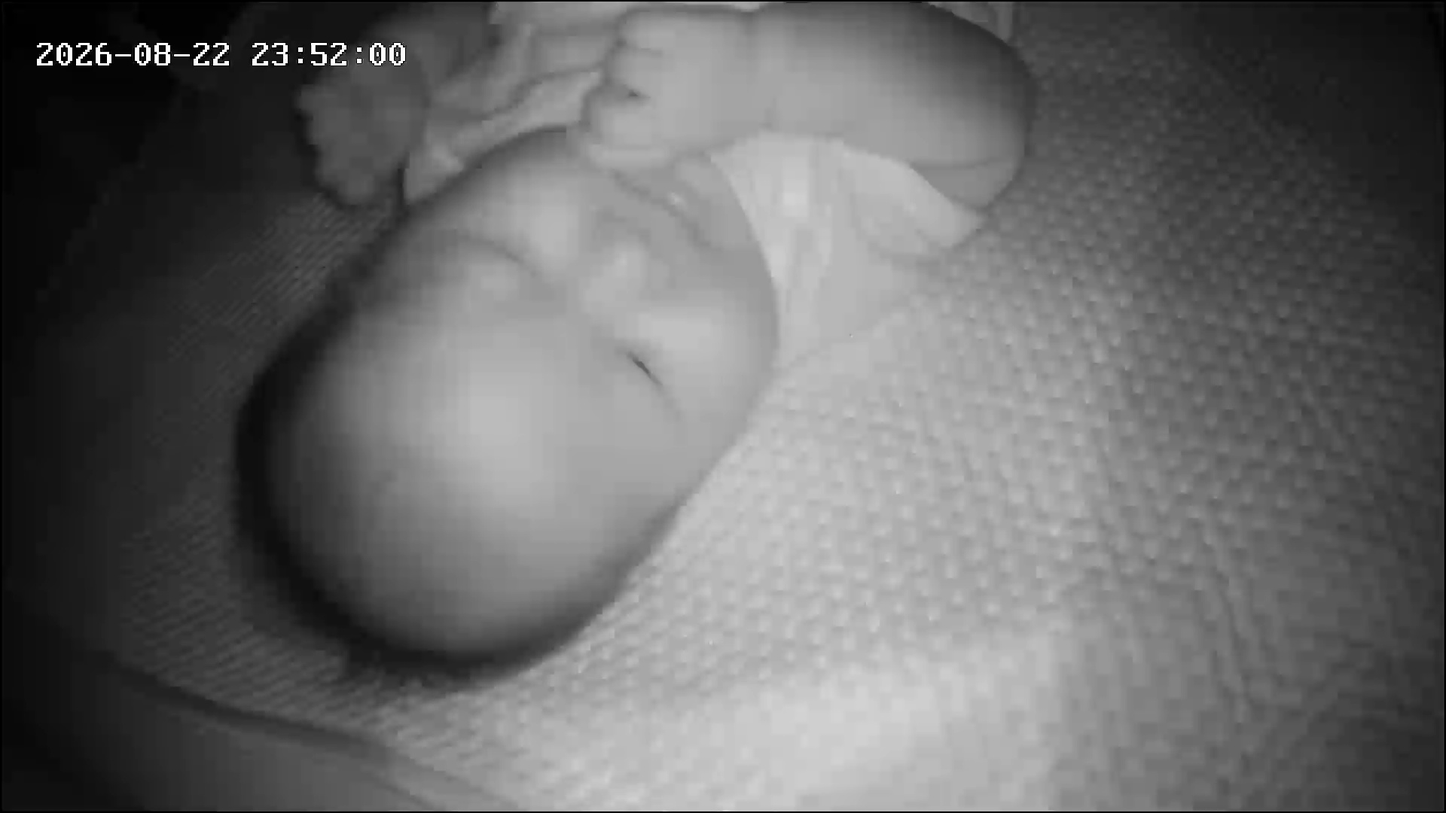baby: (184, 0, 1047, 676), (0, 0, 822, 708)
baby_face: (231, 122, 791, 671)
